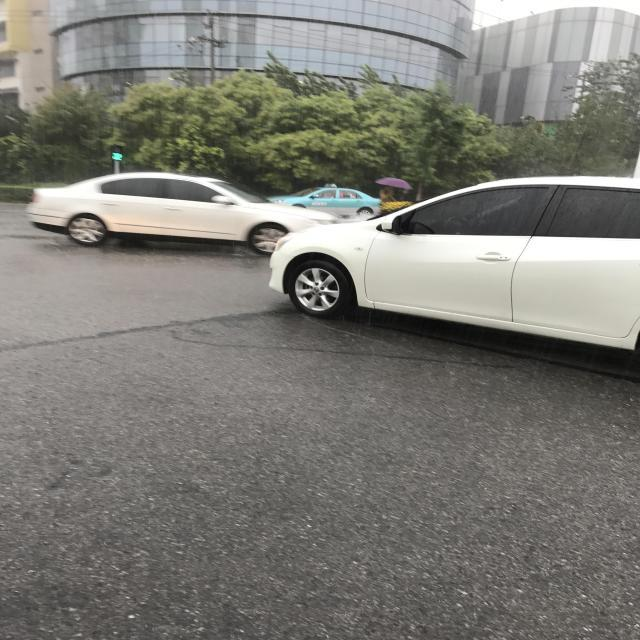car: (176, 0, 353, 372), (172, 302, 254, 614), (184, 255, 218, 372)
